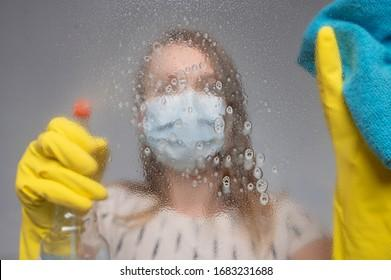gloves: (313, 25, 391, 260), (15, 115, 110, 259)
